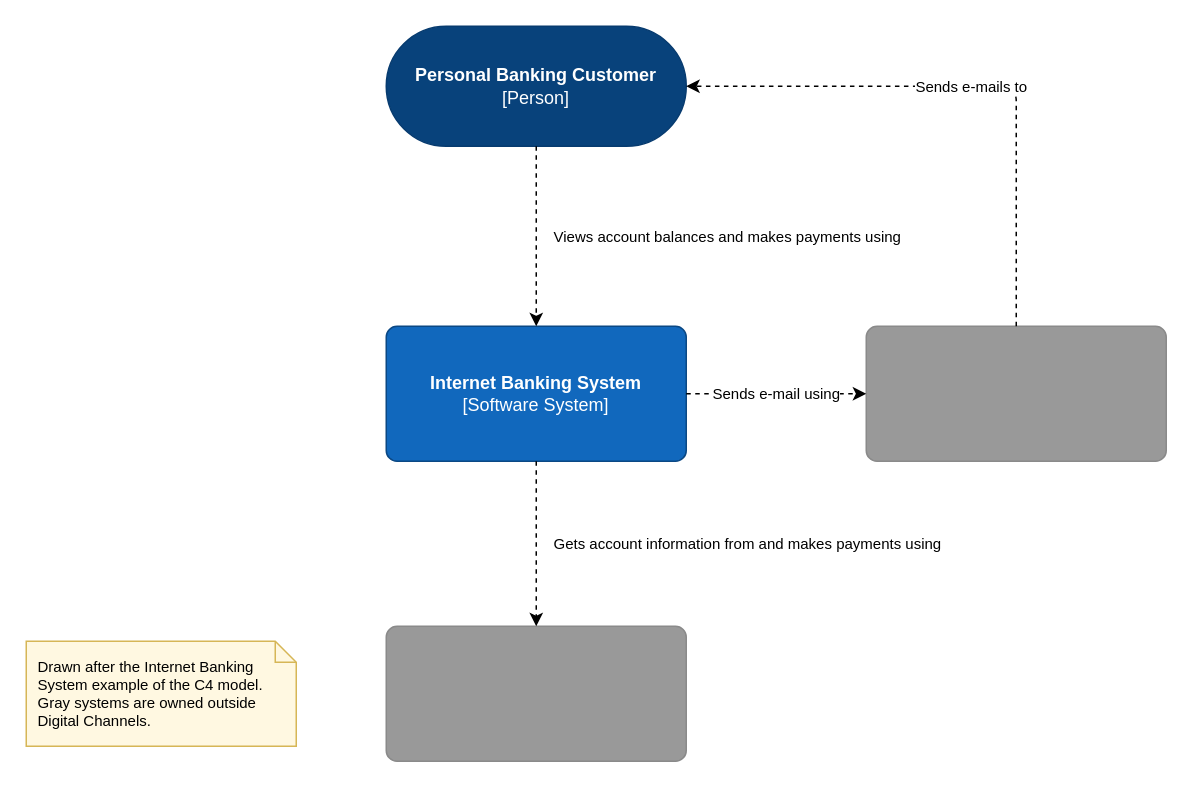
This 1193x788 diagram has some shape labels left out. Each missing label, with the box of its shape:
E-mail System [Software System]: (865, 325, 1166, 461)
Mainframe Banking System [Software System]: (385, 625, 686, 761)
